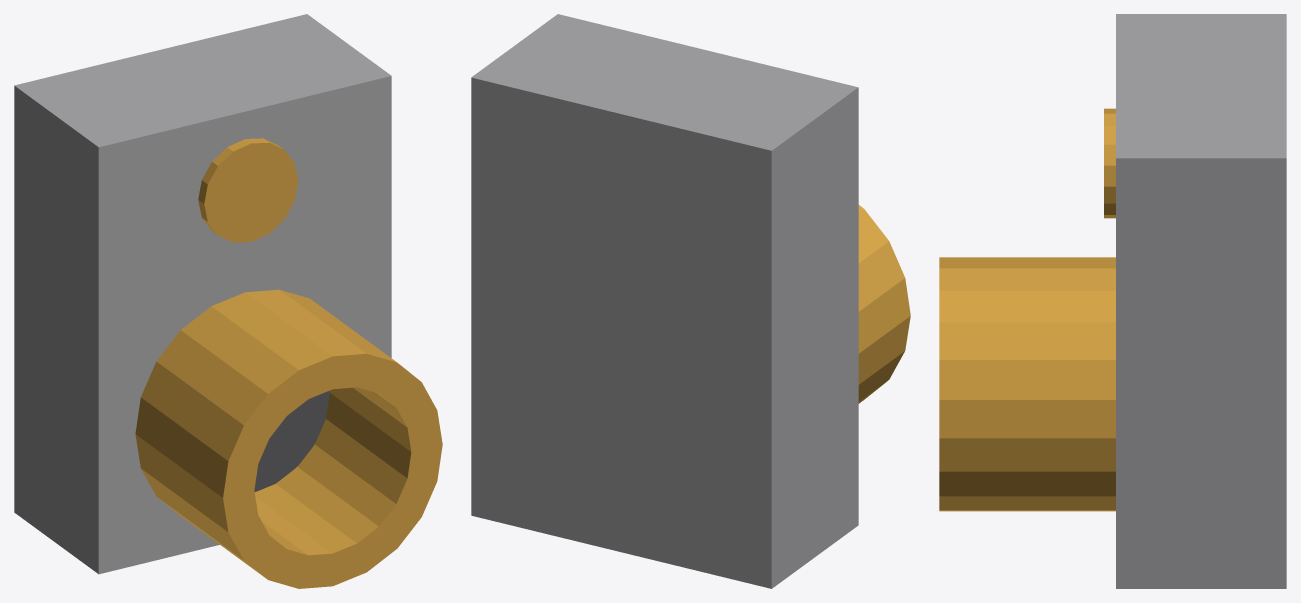
The model's file is vge_oxygen_pump.obj.
3 views of the same model, side by side, from view 1: azimuth 30°, elevation 25°; view 2: azimuth 150°, elevation 25°; view 3: azimuth 270°, elevation 25° (orthographic). The views are drawn at different scales.
Visible parts, largest first — view 1: vge_oxygen_pump_0, vge_oxygen_pump_2, vge_oxygen_pump_1, vge_oxygen_pump_3; view 2: vge_oxygen_pump_0, vge_oxygen_pump_2; view 3: vge_oxygen_pump_0, vge_oxygen_pump_2, vge_oxygen_pump_1.
Boxes of the visible parts, box(x1,y1,x2,y2) form: vge_oxygen_pump_0: box(14, 14, 391, 574); vge_oxygen_pump_2: box(135, 289, 442, 588); vge_oxygen_pump_1: box(198, 138, 298, 242); vge_oxygen_pump_3: box(254, 390, 329, 491); vge_oxygen_pump_0: box(471, 14, 858, 588); vge_oxygen_pump_2: box(858, 205, 910, 403); vge_oxygen_pump_0: box(1116, 14, 1286, 588); vge_oxygen_pump_2: box(939, 257, 1115, 511); vge_oxygen_pump_1: box(1104, 108, 1115, 218).
Size of the model in its own units: 0.56 by 0.78 by 0.57.
